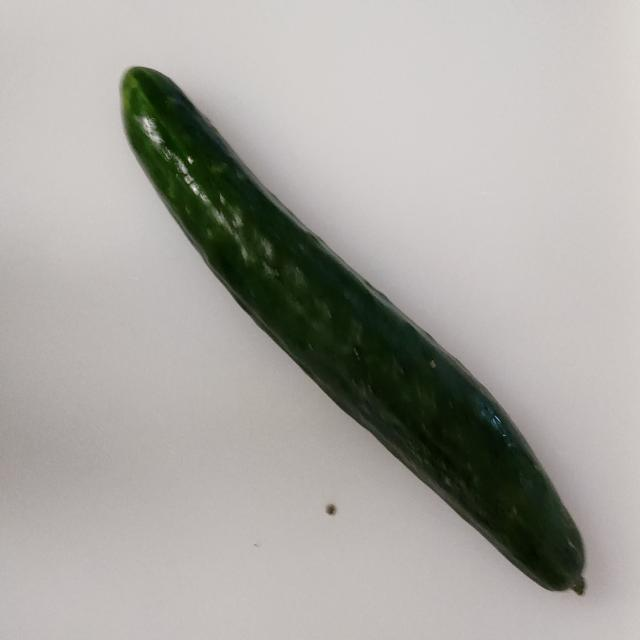cucumber: (119, 63, 587, 596)
